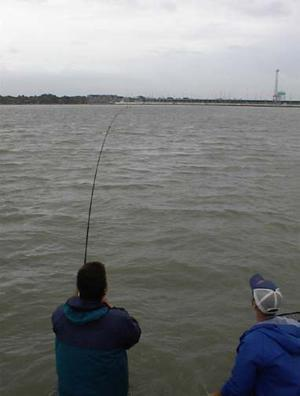person: (50, 262, 144, 396)
